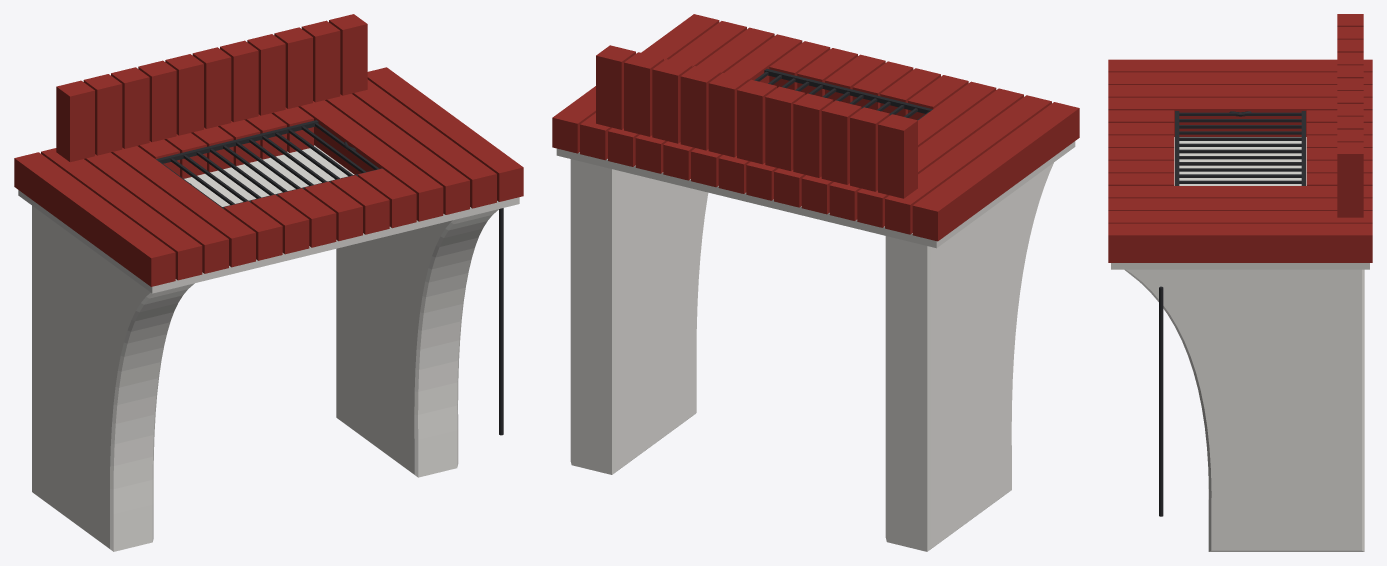
Rendered from BARBACUE1.glb.
The picture shows the model from 3 angles, left to right: view 1: azimuth 30°, elevation 25°; view 2: azimuth 150°, elevation 25°; view 3: azimuth 270°, elevation 25°; orthographic projection. The views are drawn at different scales.
Parts seen in each view (by area): view 1: leg-0, leg-1, brick-0, counter-sous-face, brick-10, brick-13, brick-1, brick-12, brick-3, brick-2, brick-11, brick-dos-0 (+24 smaller); view 2: leg-0, leg-1, brick-0, brick-1, counter-sous-face, brick-2, brick-13, brick-dos-0, brick-3, brick-10, brick-12, brick-11 (+23 smaller); view 3: leg-1, brick-13, brick-3, counter-sous-face, brick-0, brick-12, brick-1, brick-2, brick-11, brick-10, brick-dos-10, outil-tisonnier (+36 smaller).
Boxes of the visible parts, bbox=[...] form: leg-0: bbox=[32, 206, 194, 551]; leg-1: bbox=[336, 209, 498, 477]; brick-0: bbox=[14, 152, 175, 286]; counter-sous-face: bbox=[18, 145, 519, 293]; brick-10: bbox=[298, 100, 443, 221]; brick-13: bbox=[367, 67, 523, 201]; brick-1: bbox=[41, 148, 202, 280]; brick-12: bbox=[352, 79, 496, 208]; brick-3: bbox=[111, 146, 255, 267]; brick-2: bbox=[84, 152, 228, 273]; brick-11: bbox=[325, 93, 469, 214]; brick-dos-0: bbox=[56, 80, 94, 162]; leg-0: bbox=[885, 162, 1053, 551]; leg-1: bbox=[570, 159, 708, 474]; brick-0: bbox=[912, 102, 1079, 241]; brick-1: bbox=[885, 95, 1051, 234]; counter-sous-face: bbox=[556, 141, 1075, 248]; brick-2: bbox=[857, 88, 1023, 227]; brick-13: bbox=[552, 14, 719, 153]; brick-dos-0: bbox=[878, 114, 917, 198]; brick-3: bbox=[829, 81, 996, 220]; brick-10: bbox=[635, 34, 802, 173]; brick-12: bbox=[580, 21, 746, 160]; brick-11: bbox=[608, 27, 774, 166]; leg-1: bbox=[1124, 269, 1364, 551]; brick-13: bbox=[1108, 223, 1372, 262]; brick-3: bbox=[1108, 97, 1372, 136]; counter-sous-face: bbox=[1111, 137, 1369, 269]; brick-0: bbox=[1108, 59, 1372, 72]; brick-12: bbox=[1108, 211, 1372, 223]; brick-1: bbox=[1108, 72, 1372, 84]; brick-2: bbox=[1108, 85, 1372, 97]; brick-11: bbox=[1108, 198, 1372, 210]; brick-10: bbox=[1108, 186, 1372, 198]; brick-dos-10: bbox=[1337, 142, 1363, 217]; outil-tisonnier: bbox=[1159, 286, 1163, 516].
Size of the model in its own units: 0.96 by 0.97 by 0.6.
